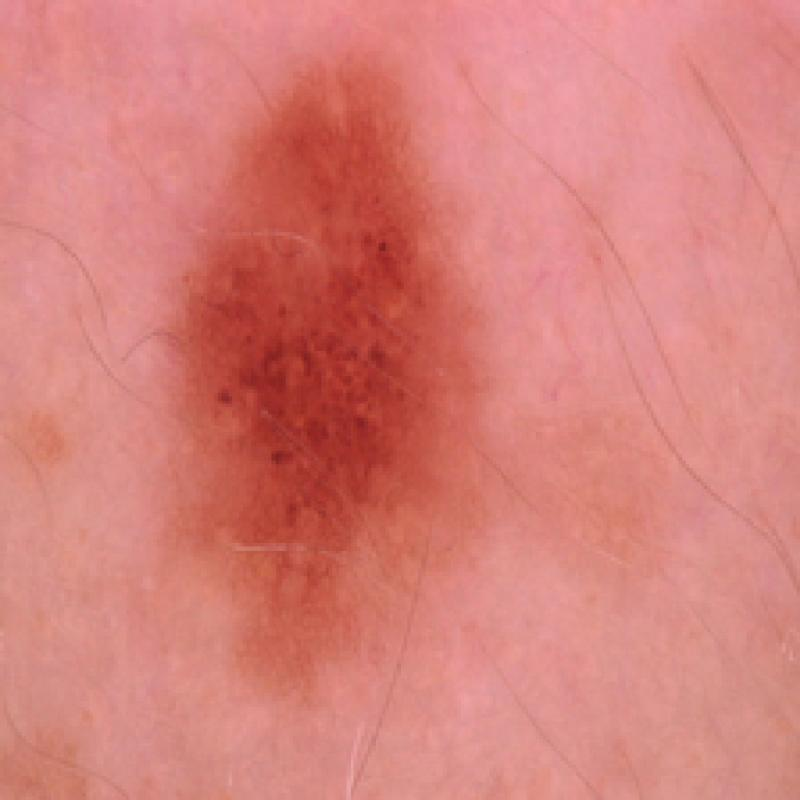benign: (122, 29, 541, 713)
